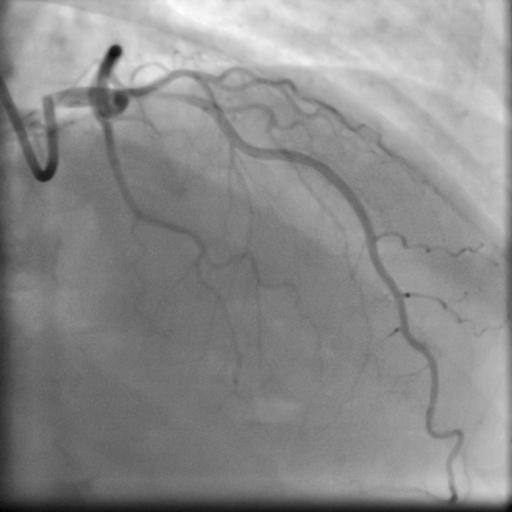Stenosis: (154, 86, 203, 106)
